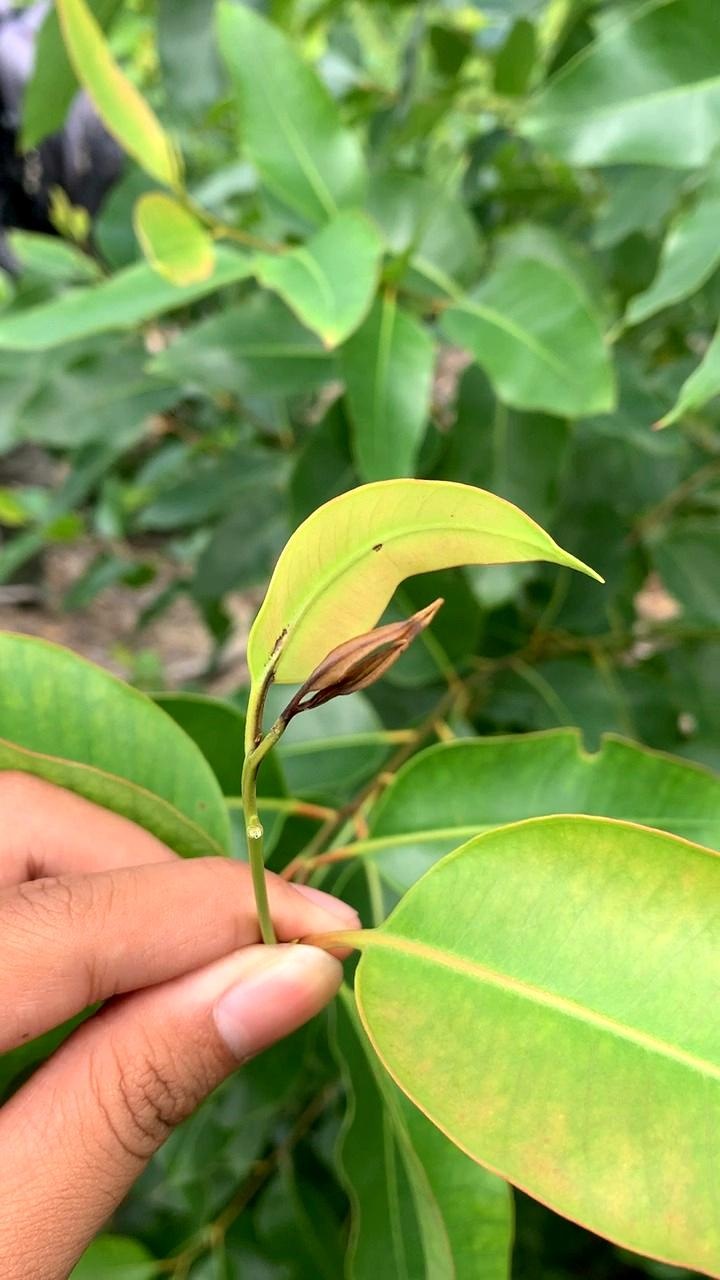Helopeltis-Withered Sprout: (286, 598, 439, 717)
